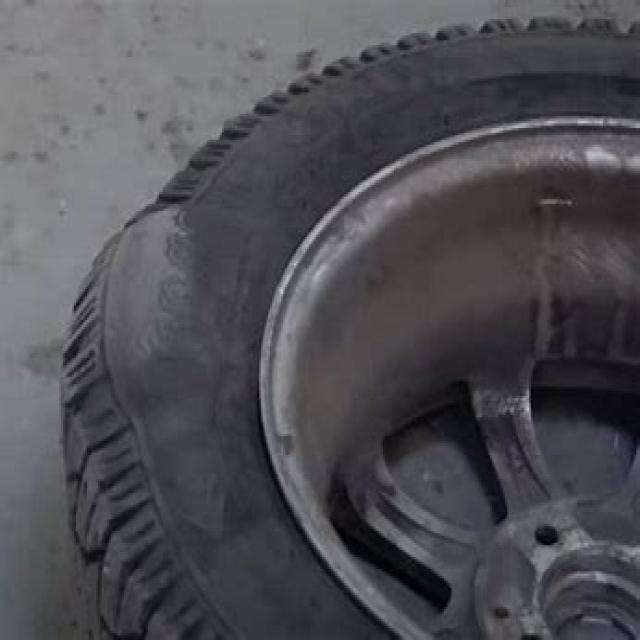Bulge: (54, 194, 227, 445)
